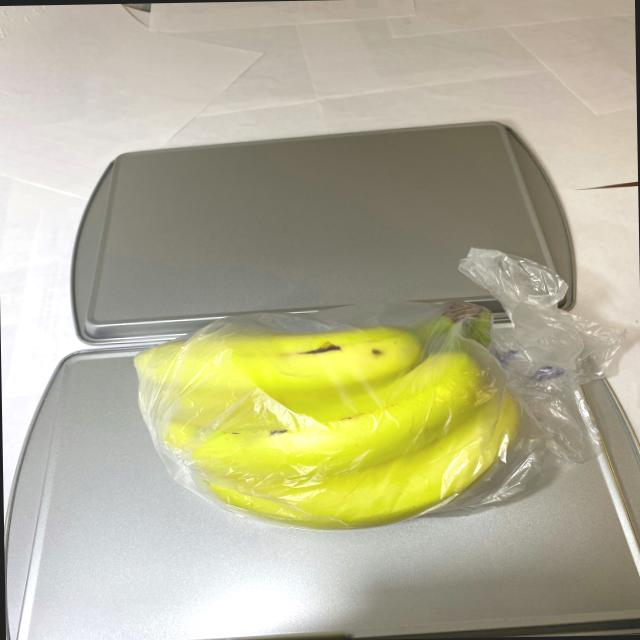banana: (130, 286, 526, 540)
